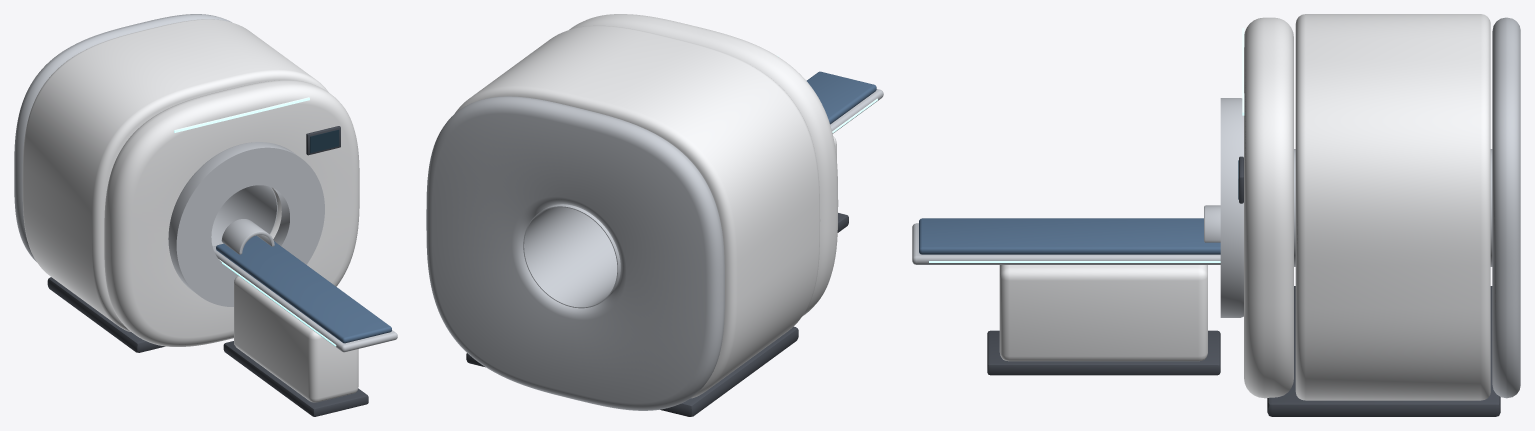
The model's file is MRI_Scanner.fbx.
3 renders of one model, left to right at view 1: azimuth 30°, elevation 25°; view 2: azimuth 150°, elevation 25°; view 3: azimuth 270°, elevation 25°, orthographic. The views are drawn at different scales.
Parts seen in each view (by area): view 1: MRI_Cover, MRI_Housing, MRI_Flare, MRI_CouchBase, MRI_Pad, MRI_RearCover, MRI_BoreLiner, MRI_CouchFoot, MRI_Tabletop, MRI_Base, MRI_HeadCoil, MRI_Screen (+1 smaller); view 2: MRI_RearCover, MRI_Housing, MRI_Cover, MRI_BoreLiner, MRI_Base, MRI_Pad, MRI_Tabletop; view 3: MRI_Housing, MRI_CouchBase, MRI_Cover, MRI_RearCover, MRI_Pad, MRI_Flare, MRI_Base, MRI_CouchFoot, MRI_Tabletop, MRI_HeadCoil, MRI_BoreLiner, MRI_TopLEDR.
Boxes of the visible parts, <box> form: MRI_Cover: <box>104,80,359,346</box>; MRI_Housing: <box>22,19,328,331</box>; MRI_Flare: <box>168,142,324,306</box>; MRI_CouchBase: <box>234,276,358,402</box>; MRI_Pad: <box>216,235,391,343</box>; MRI_RearCover: <box>14,14,231,261</box>; MRI_BoreLiner: <box>211,185,277,246</box>; MRI_CouchFoot: <box>223,341,368,416</box>; MRI_Tabletop: <box>213,246,397,352</box>; MRI_Base: <box>47,277,165,352</box>; MRI_HeadCoil: <box>221,219,274,254</box>; MRI_Screen: <box>310,129,339,153</box>; MRI_RearCover: <box>426,96,724,410</box>; MRI_Housing: <box>455,25,820,398</box>; MRI_Cover: <box>569,14,838,316</box>; MRI_BoreLiner: <box>523,204,620,308</box>; MRI_Base: <box>466,326,798,416</box>; MRI_Pad: <box>806,71,876,124</box>; MRI_Tabletop: <box>830,89,883,133</box>; MRI_Housing: <box>1295,14,1490,400</box>; MRI_CouchBase: <box>999,265,1207,361</box>; MRI_Cover: <box>1244,17,1293,398</box>; MRI_RearCover: <box>1492,17,1520,398</box>; MRI_Pad: <box>919,218,1220,254</box>; MRI_Flare: <box>1220,98,1243,317</box>; MRI_Base: <box>1267,286,1500,416</box>; MRI_CouchFoot: <box>987,330,1220,375</box>; MRI_Tabletop: <box>912,223,1220,264</box>; MRI_HeadCoil: <box>1204,205,1220,242</box>; MRI_BoreLiner: <box>1294,149,1492,266</box>; MRI_TopLEDR: <box>929,261,1220,262</box>.
Bounding box in the file's own units: 2.24 × 2.1 × 3.65.
